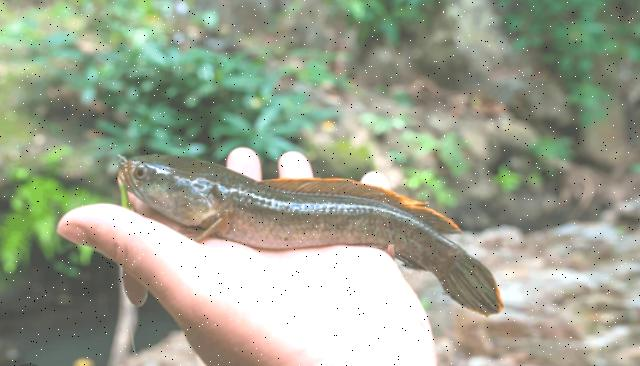Mulut: (112, 149, 152, 206)
Sirip Dada: (173, 204, 241, 248)
Sirip Ekor: (436, 252, 508, 322)
Sirip Punggung: (257, 169, 467, 244)
